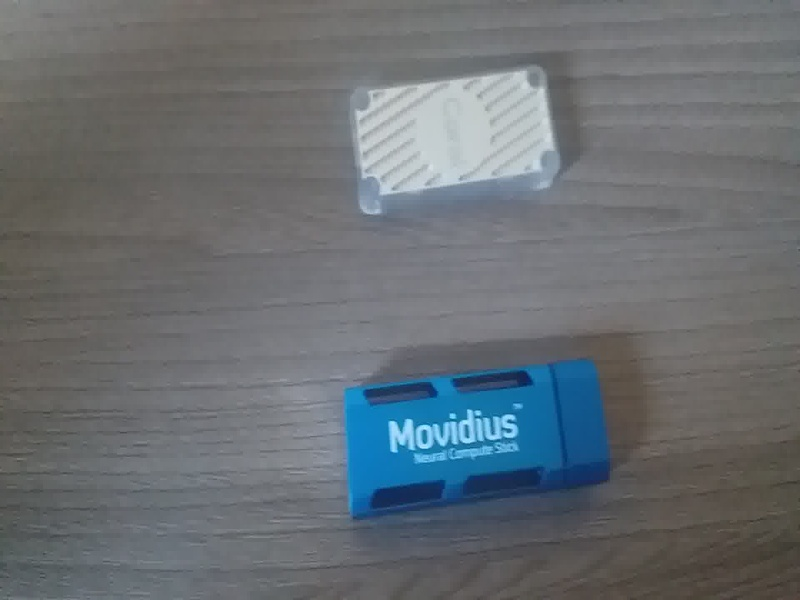coral: (331, 53, 571, 216)
movidius: (328, 352, 642, 529)
